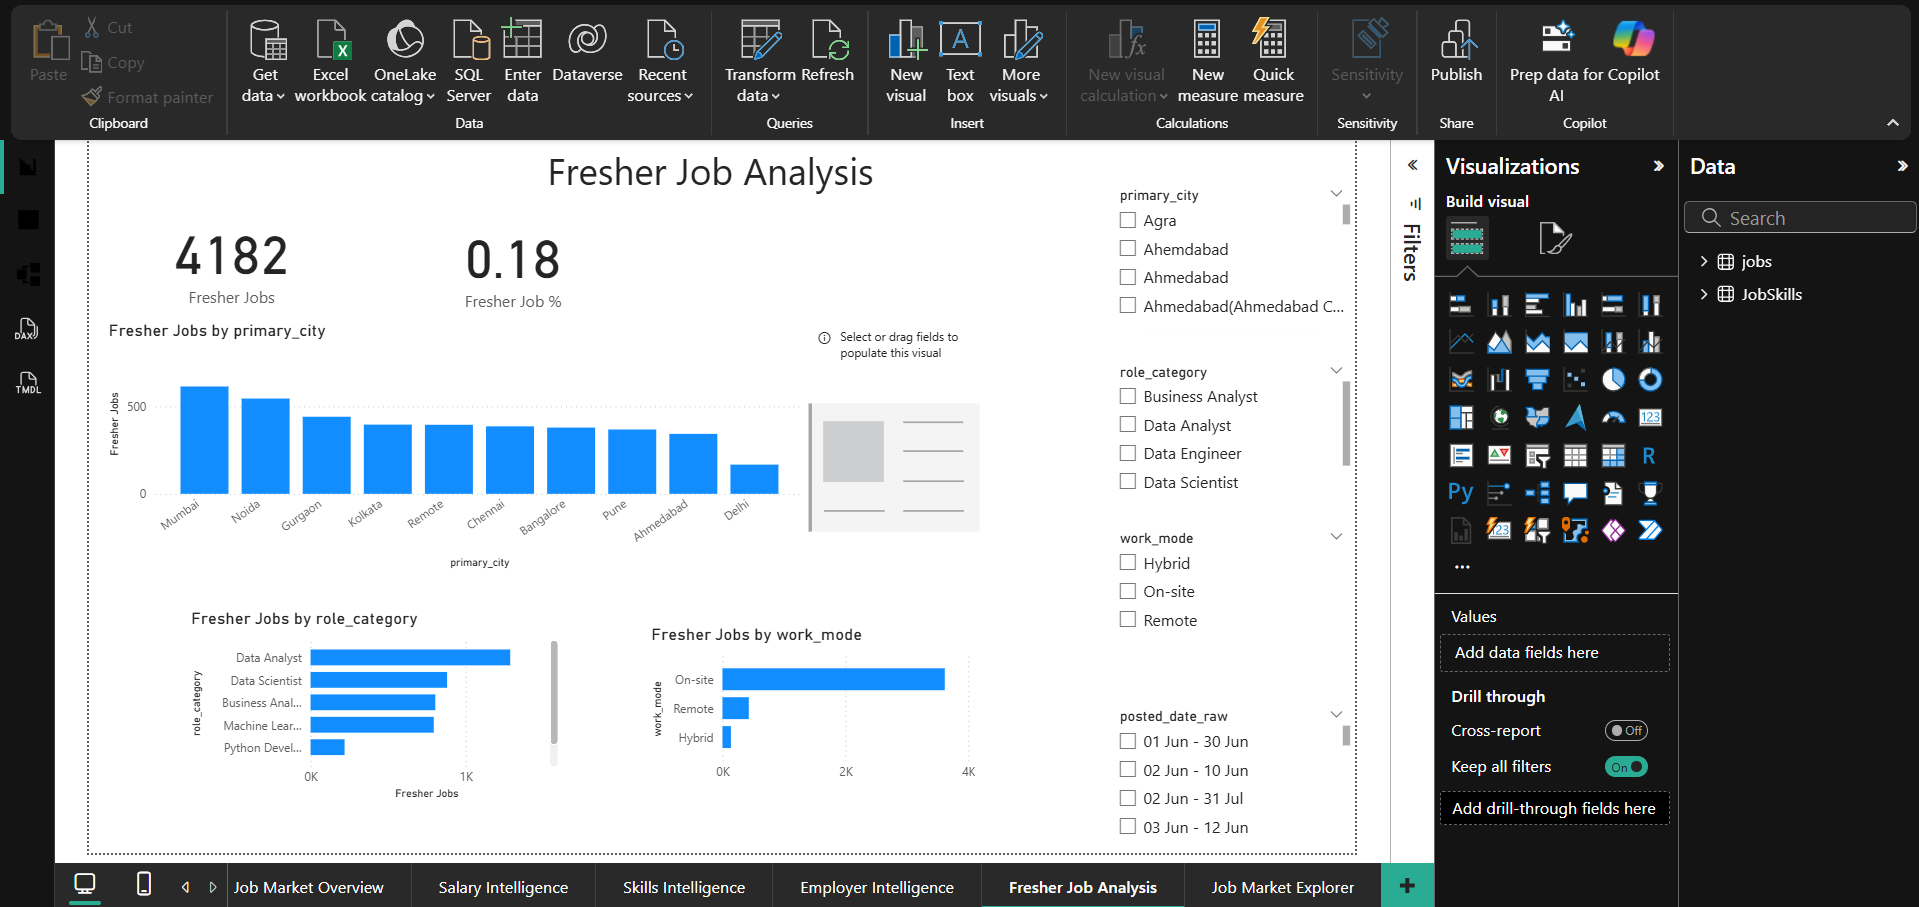

Layout of this report page (visuals, bound fields, positions):
{"tool":"powerbi","page":{"name":"Fresher Job Analysis","canvas":[1280,720],"ordinal":4},"visuals":[{"type":"textbox","box":[458.6,0,363.1,83.3],"z":0},{"type":"card","fields":{"Values":["jobs.Fresher Jobs"]},"box":[15,65.5,258,109.2],"z":1000},{"type":"card","fields":{"Values":["jobs.Fresher Job %"]},"box":[303,65.5,251.2,117.4],"z":2000},{"type":"clusteredColumnChart","fields":{"Category":["jobs.primary_city"],"Y":["jobs.Fresher Jobs"]},"box":[15,182.9,712.5,255.3],"z":3000},{"type":"clusteredBarChart","fields":{"Category":["jobs.role_category"],"Y":["jobs.Fresher Jobs"]},"box":[98.3,473.7,380.8,197.9],"z":4000},{"type":"clusteredBarChart","fields":{"Category":["jobs.work_mode"],"Y":["jobs.Fresher Jobs"]},"box":[563.7,490,337.2,166.5],"z":5000},{"type":"slicer","box":[1029.2,42.3,251.2,150.2],"z":6000},{"type":"slicer","fields":{"Values":["jobs.primary_city"]},"box":[1028.8,42.3,251.2,150.2],"z":7000},{"type":"slicer","fields":{"Values":["jobs.role_category"]},"box":[1029.2,221.1,251.2,150.2],"z":8000},{"type":"slicer","fields":{"Values":["jobs.work_mode"]},"box":[1029.2,389,251.2,150.2],"z":9000},{"type":"slicer","fields":{"Values":["jobs.posted_date_raw"]},"box":[1029.2,569.2,251.2,150.2],"z":10000},{"type":"card","box":[728,183,173,255],"z":11000}]}

Visuals, with their boxes on the page's 1280x720 design canvas (x1, y1, x2, y2). These are canvas units, not pixel positions in the 1919x907 screenshot, which may show the page scaled, cropped or inside an application window:
textbox: x1=459, y1=0, x2=822, y2=83
card - jobs.Fresher Jobs: x1=15, y1=66, x2=273, y2=175
card - jobs.Fresher Job %: x1=303, y1=66, x2=554, y2=183
clusteredColumnChart - jobs.primary_city x jobs.Fresher Jobs: x1=15, y1=183, x2=728, y2=438
clusteredBarChart - jobs.role_category x jobs.Fresher Jobs: x1=98, y1=474, x2=479, y2=672
clusteredBarChart - jobs.work_mode x jobs.Fresher Jobs: x1=564, y1=490, x2=901, y2=656
slicer: x1=1029, y1=42, x2=1280, y2=192
slicer - jobs.primary_city: x1=1029, y1=42, x2=1280, y2=192
slicer - jobs.role_category: x1=1029, y1=221, x2=1280, y2=371
slicer - jobs.work_mode: x1=1029, y1=389, x2=1280, y2=539
slicer - jobs.posted_date_raw: x1=1029, y1=569, x2=1280, y2=719
card: x1=728, y1=183, x2=901, y2=438
